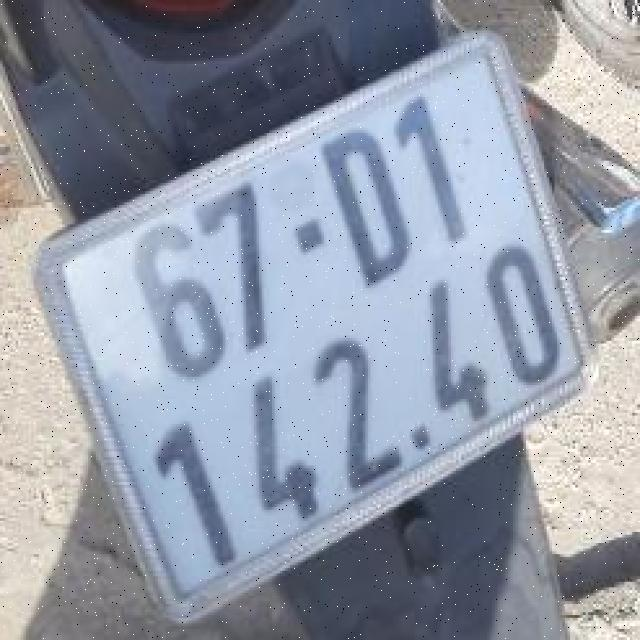0: (472, 231, 582, 412)
1: (381, 85, 498, 262), (137, 408, 253, 584)
2: (298, 321, 415, 508)
4: (222, 356, 339, 550), (396, 264, 506, 456)
6: (116, 205, 237, 397)
7: (179, 172, 306, 371)
D: (306, 115, 430, 305)
